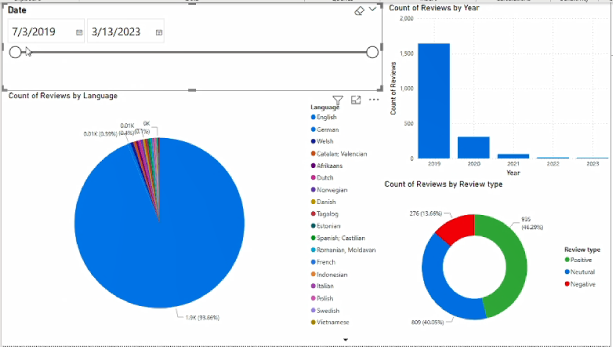

The dashboard page shown, as its layout file describes it:
{"tool":"powerbi","page":{"name":"Page 1","canvas":[1280,720],"ordinal":0},"visuals":[{"type":"slicer","fields":{"Values":["Acer Predator.Date"]},"box":[0,0,800,185.2],"z":0},{"type":"pieChart","fields":{"Category":["Acer Predator.Language"],"Y":["CountNonNull(Acer Predator.N)"]},"box":[9.6,185.2,790.4,535.2],"z":1000},{"type":"columnChart","fields":{"Category":["Acer Predator.Date.Variation.Date Hierarchy.Year"],"Y":["CountNonNull(Acer Predator.N)"]},"box":[809.6,0,470.7,370.5],"z":2000},{"type":"donutChart","fields":{"Category":["Acer Predator.Review type"],"Y":["CountNonNull(Acer Predator.N)"]},"box":[800,370.5,480.3,349.9],"z":3000}]}

Visuals, with their boxes in screenshot pixels (x1, y1, x2, y2), scaled from the page's 1280x720 canvas onto the 613x347 screenshot:
slicer - Acer Predator.Date: <region>0, 0, 383, 89</region>
pieChart - Acer Predator.Language x CountNonNull(Acer Predator.N): <region>5, 89, 383, 346</region>
columnChart - Acer Predator.Date.Variation.Date Hierarchy.Year x CountNonNull(Acer Predator.N): <region>388, 0, 612, 179</region>
donutChart - Acer Predator.Review type x CountNonNull(Acer Predator.N): <region>383, 179, 612, 346</region>
